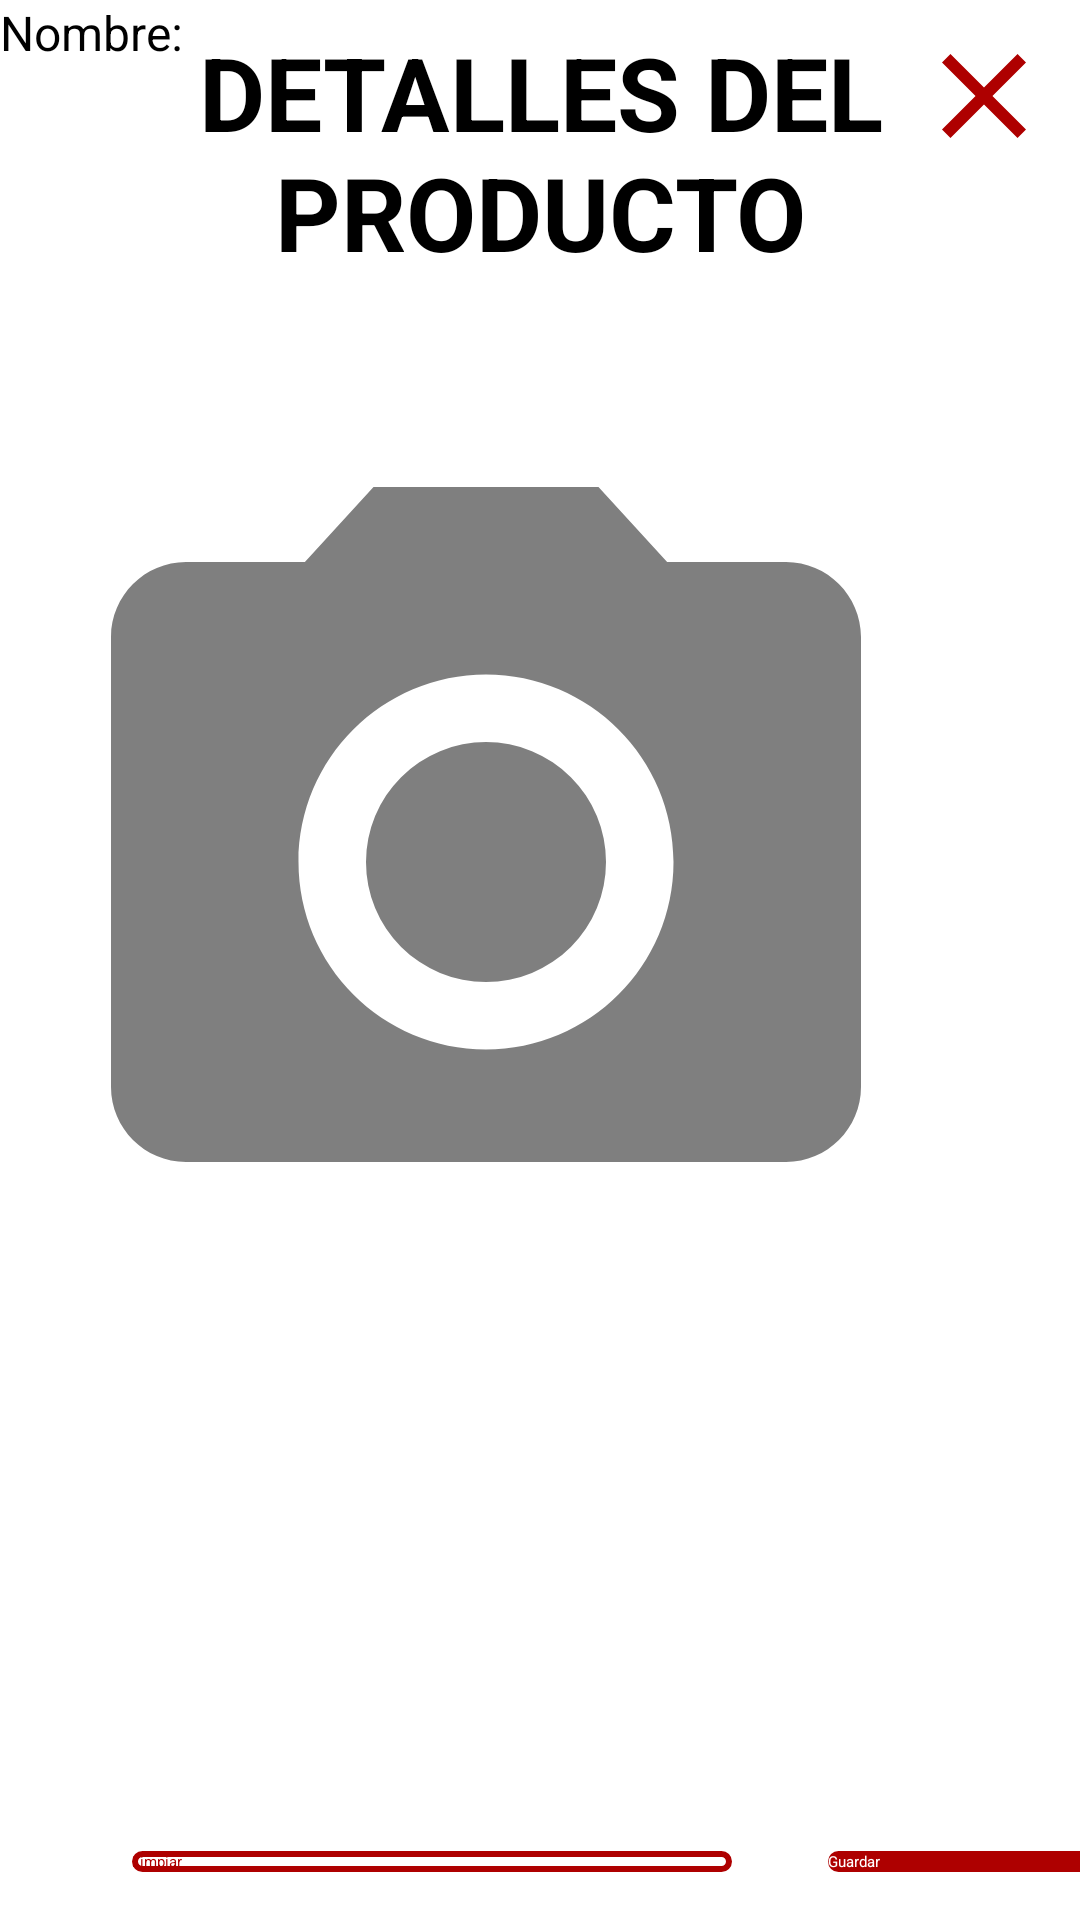

Icon bounding boxes for this 1080×1920 phone screenshot, format Rect(x1, y1, x2, y2):
cerrar: Rect(942, 54, 1026, 138)
